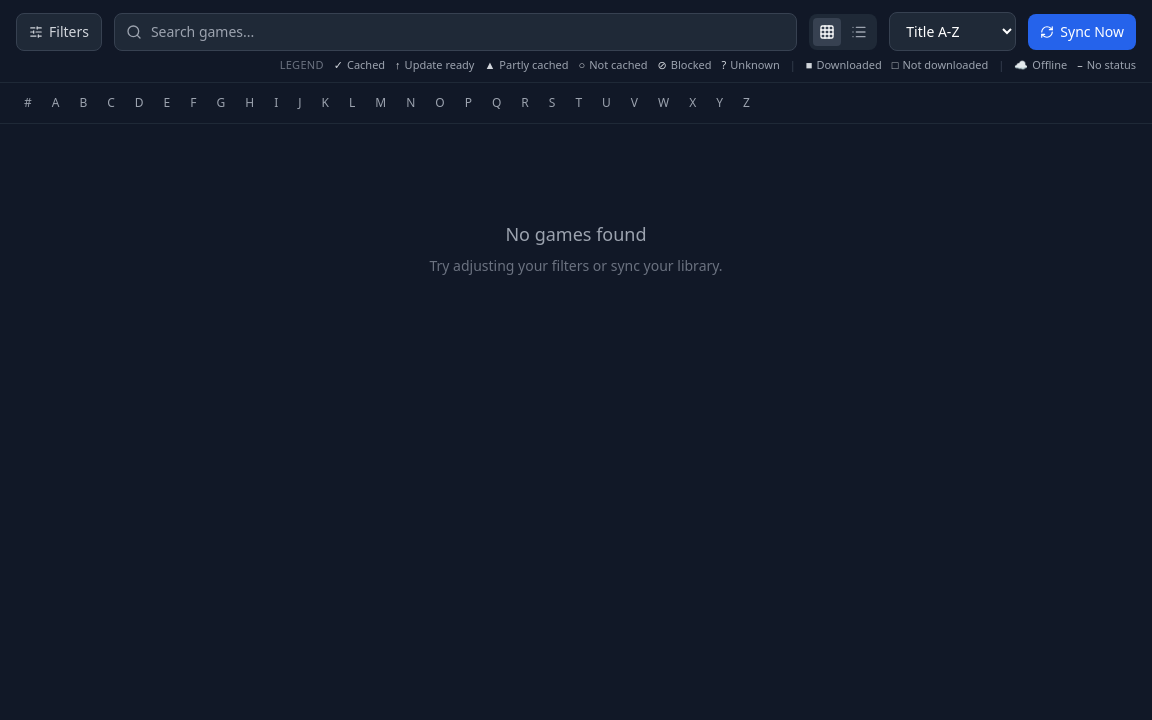
Test: Library toolbar layout › opens the filter panel from its new position, anchored beside the button
Step 1. Click the button "Filters" → (59,32), box [16, 12, 102, 50]
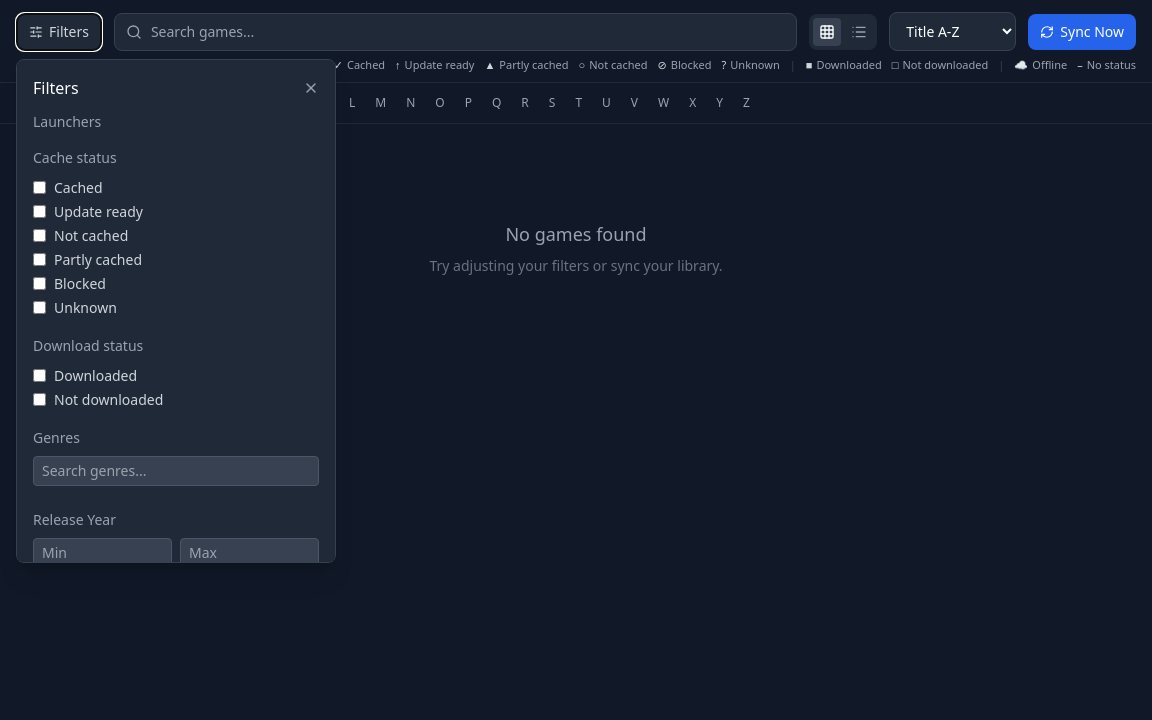
Expected: the heading "Filters" is shown, [33, 76, 79, 100]
